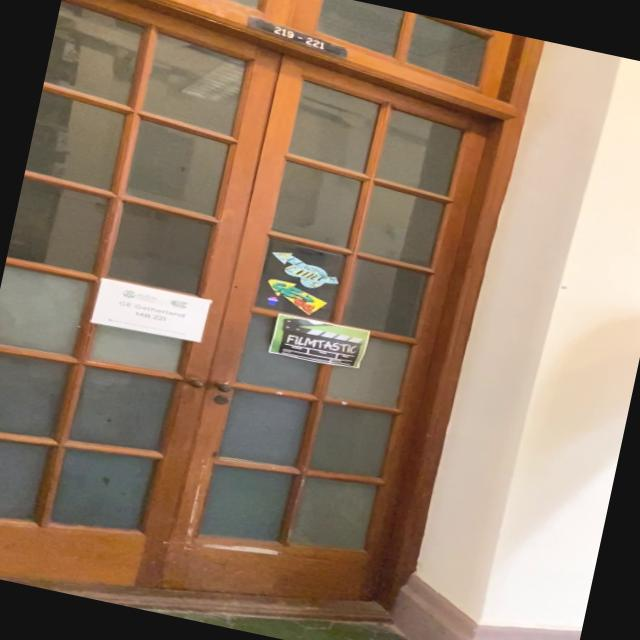room221: (243, 14, 353, 60)
